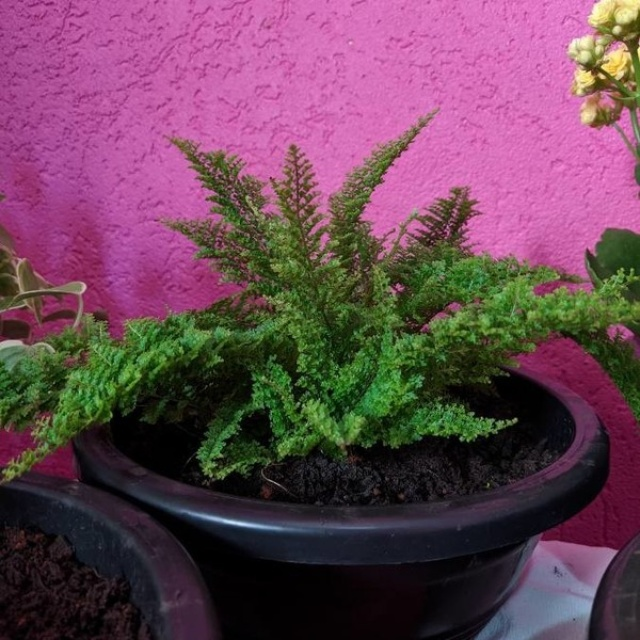obstacle: (27, 90, 573, 631)
